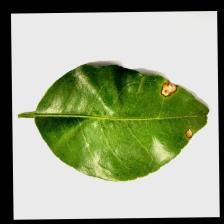canker: (134, 71, 206, 144)
